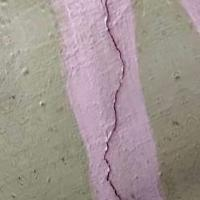crack: (89, 0, 152, 199)
